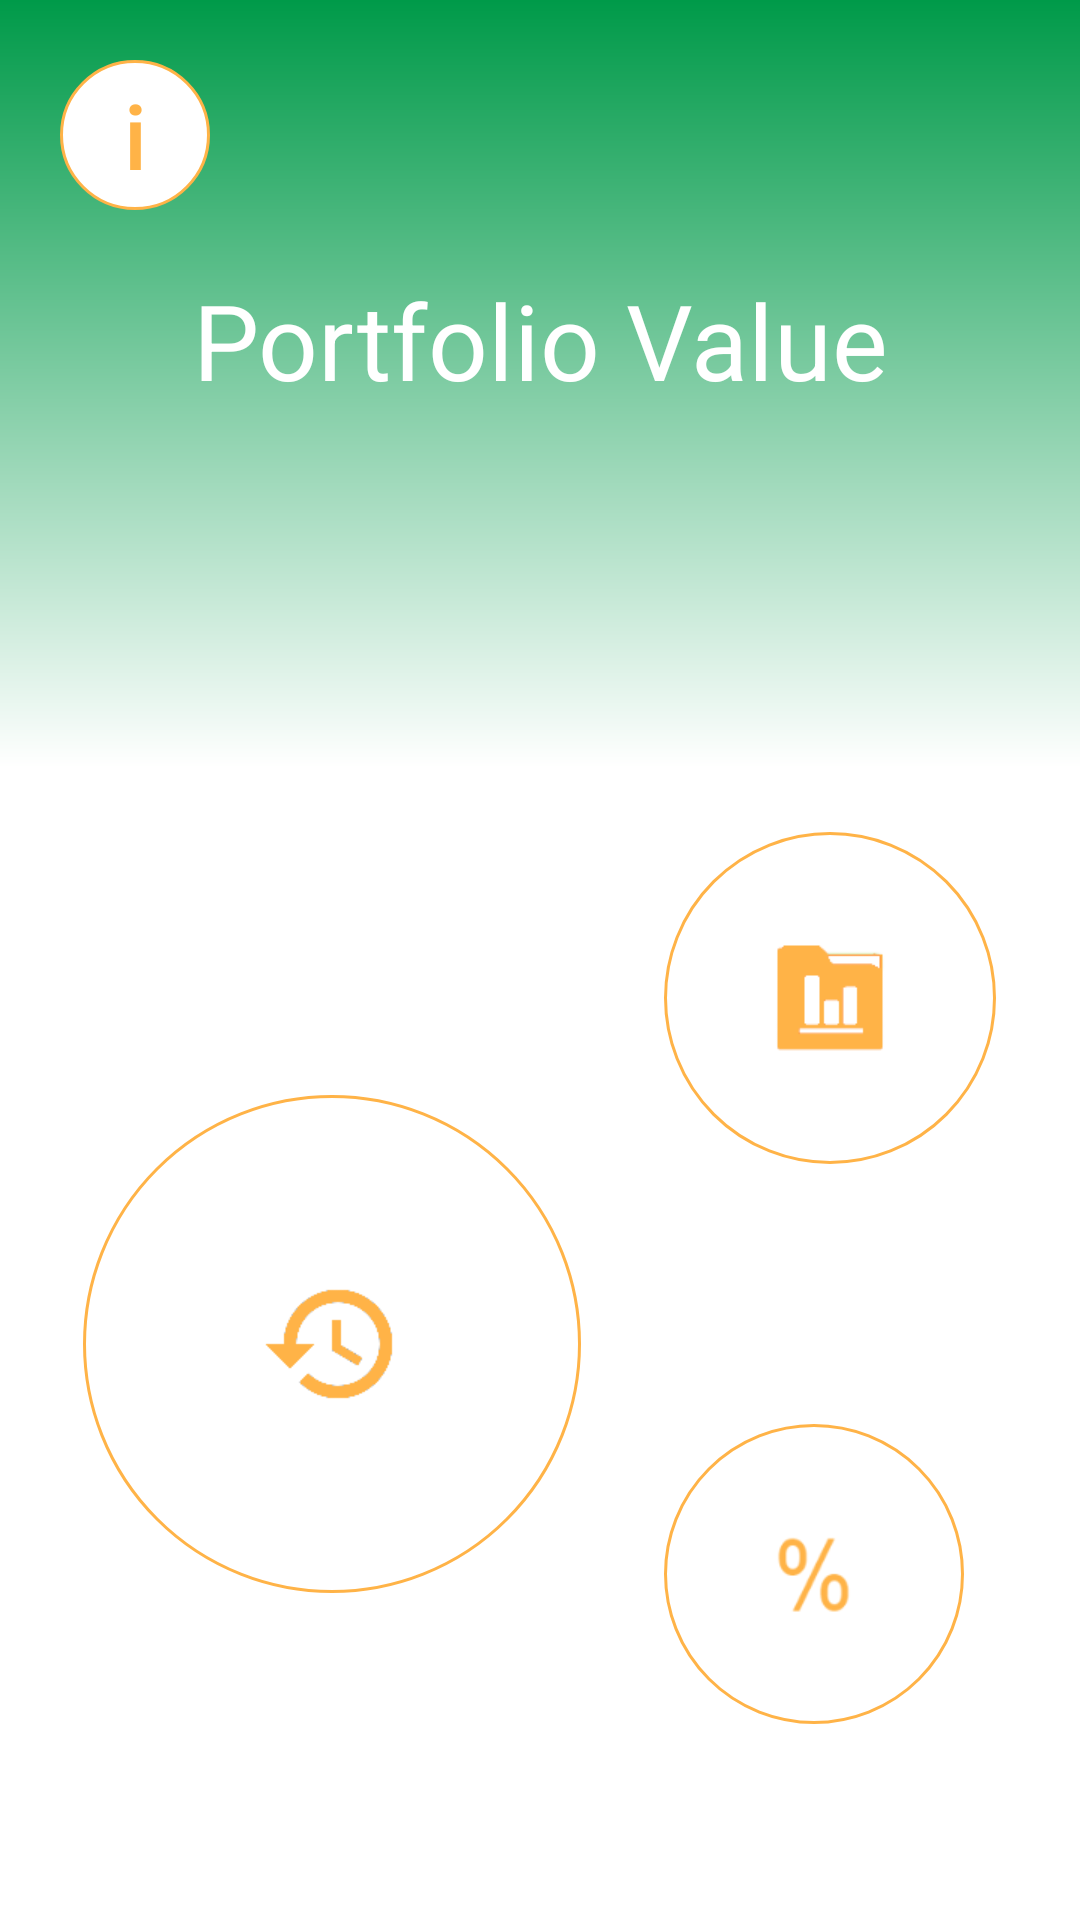

Where to tap for icons on this 1080×1920 app screen, as point (x, y):
portfolio chart: point (830, 998)
